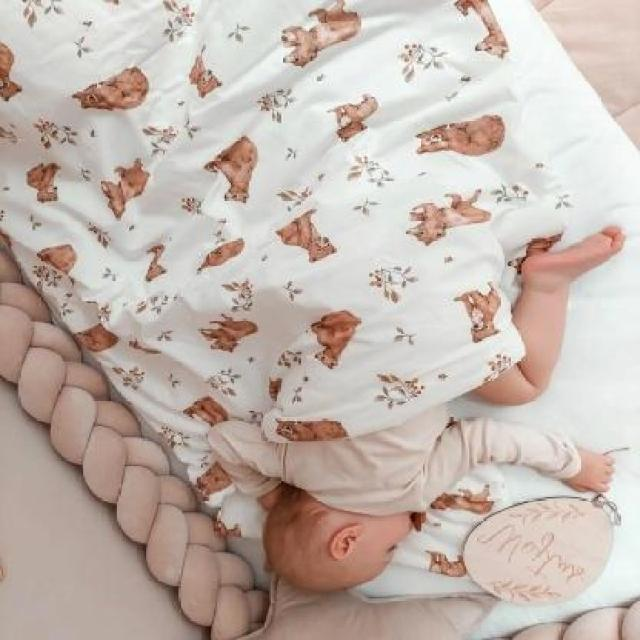baby: (204, 220, 626, 597)
